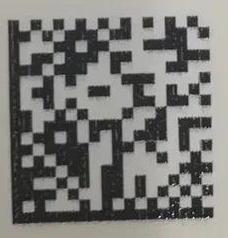datamatrix: (9, 17, 215, 226)
